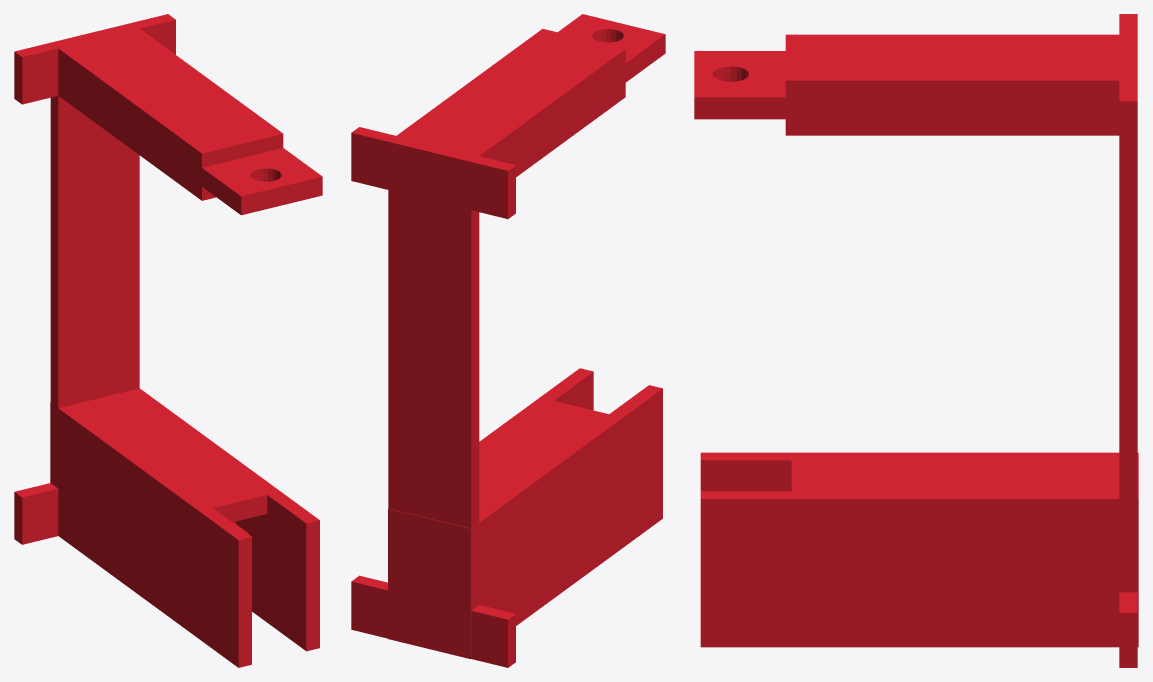
File: tinker.obj
3 renders of one model, left to right at view 1: azimuth 30°, elevation 25°; view 2: azimuth 150°, elevation 25°; view 3: azimuth 270°, elevation 25°, orthographic. The views are drawn at different scales.
Parts seen in each view (by area): view 1: obj_0; view 2: obj_0; view 3: obj_0.
Part boxes in pixels (box(x1,y1,x2,y2)): obj_0: box(14, 14, 322, 667); obj_0: box(351, 14, 665, 667); obj_0: box(694, 14, 1138, 667).
Bounding box in the file's own units: 34 × 103 × 73.14.
